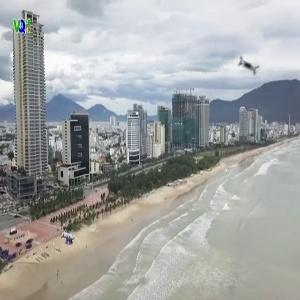drone: (213, 30, 288, 105)
